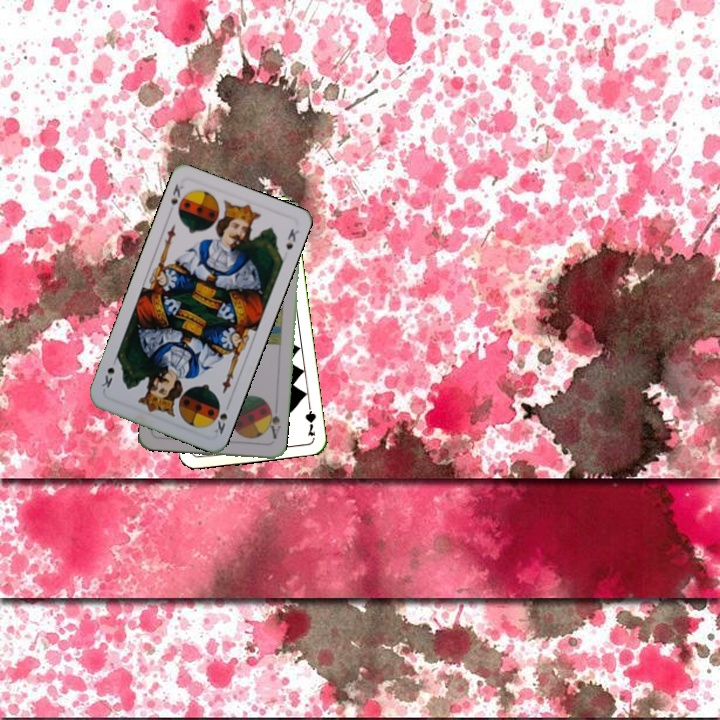G7: (301, 398, 318, 439)
SA: (263, 404, 283, 441)
SK: (164, 180, 190, 217), (210, 409, 230, 437)
